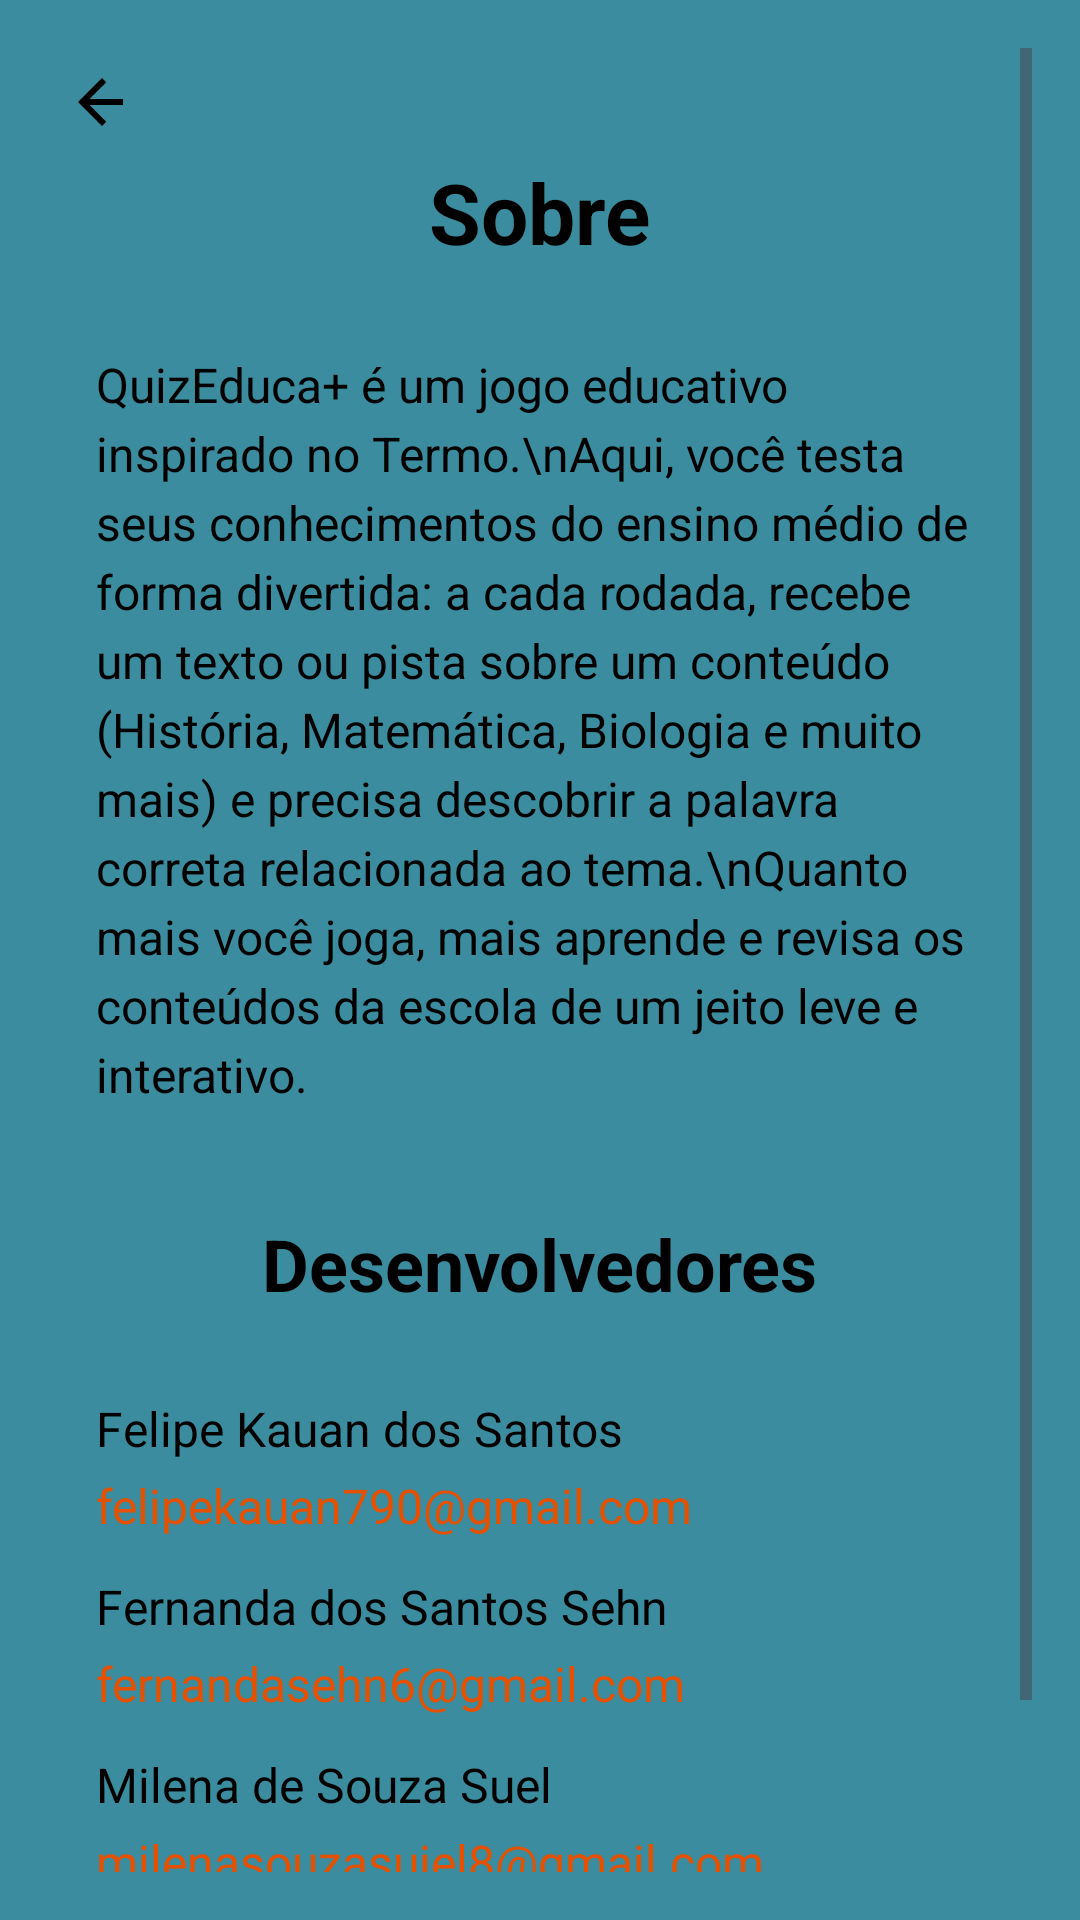

Point at icon controls on the screen. Image size 1080w x 1920h, points as [x,y].
Voltar: [100,102]
